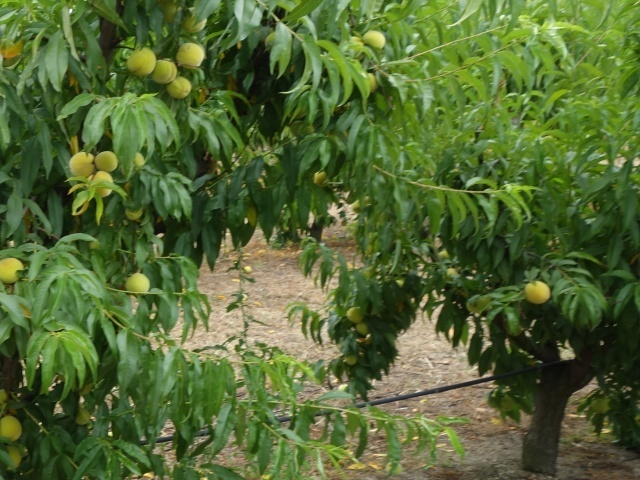peach: (122, 42, 157, 79), (520, 274, 555, 309), (172, 39, 208, 71), (65, 148, 98, 181), (148, 54, 180, 87), (178, 2, 207, 38), (122, 270, 153, 301), (90, 145, 120, 177), (89, 168, 118, 201), (165, 73, 194, 105), (360, 27, 389, 55), (1, 412, 25, 445), (1, 255, 26, 285), (306, 166, 332, 191), (120, 203, 148, 224), (346, 33, 371, 55), (361, 70, 384, 93), (344, 301, 366, 325), (72, 404, 93, 429), (355, 315, 373, 340)
